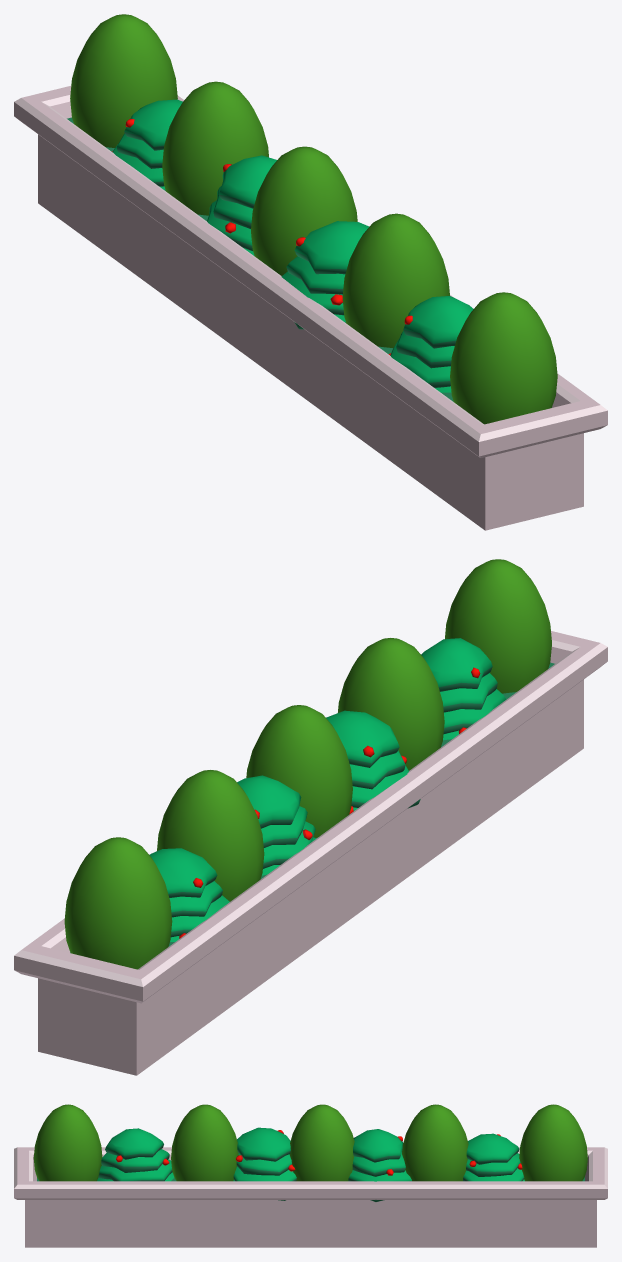
Rendered from flowerbed.fbx.
3 renders of one model, top to bottom at view 1: azimuth 30°, elevation 25°; view 2: azimuth 150°, elevation 25°; view 3: azimuth 270°, elevation 25°, orthographic. The views are drawn at different scales.
Parts seen in each view (by area): view 1: flowerbed; view 2: flowerbed; view 3: flowerbed.
Boxes of the visible parts, box(x1,y1,x2,y2) form: flowerbed: box(14, 14, 607, 530); flowerbed: box(14, 559, 607, 1075); flowerbed: box(14, 1104, 607, 1247).
Bounding box in the file's own units: 76.04 × 111 × 474.
